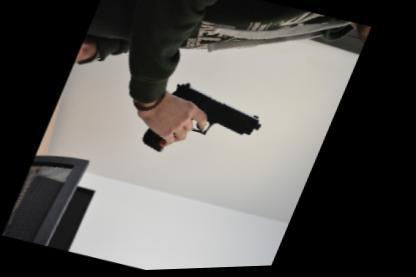pistol: (140, 74, 280, 176)
